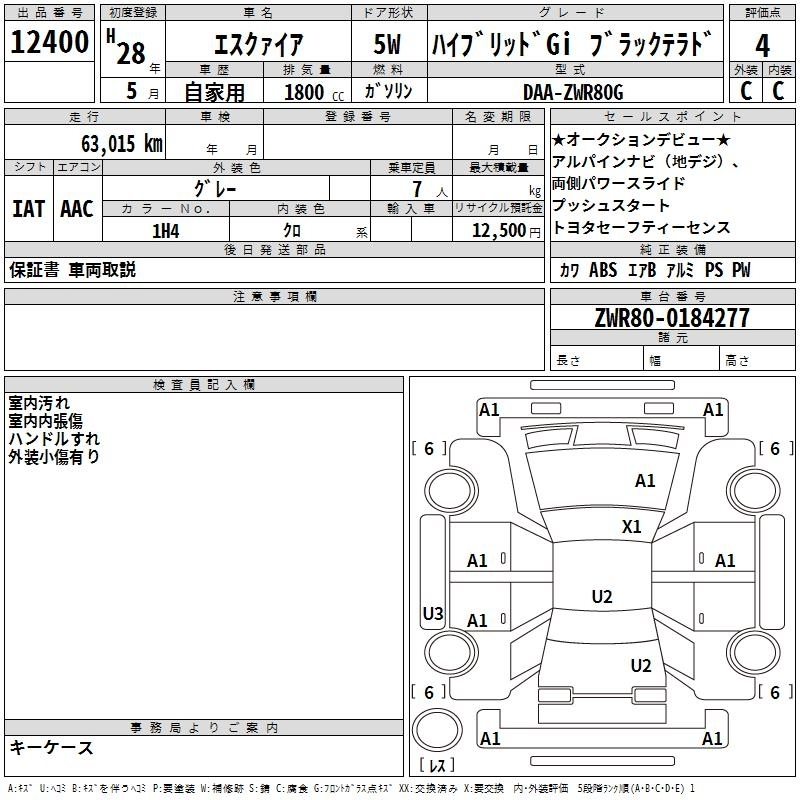KAIGYOANNOUNCE-BY-A-AUCTION HOUSE: (4, 735, 404, 776)
KAIGYOAUCTION-POINT: (729, 20, 796, 61)
KAIGYOCAR: (166, 21, 351, 61)
KAIGYOCHASSIS-NUMBER: (550, 304, 797, 330)
KAIGYOGEAR: (7, 179, 51, 239)
KAIGYOINSPECTIONS: (4, 392, 403, 720)
KAIGYOLOT: (4, 21, 94, 61)
KAIGYOMILEAGE: (5, 124, 166, 159)
KAIGYOMODEL: (428, 77, 723, 102)
KAIGYOPACKAGE: (428, 20, 723, 61)
KAIGYOSEAT: (379, 178, 433, 198)
KAIGYOSELLING-POINTS: (550, 124, 795, 242)
KAIGYOSPECIAL-NOTE: (4, 304, 545, 370)
